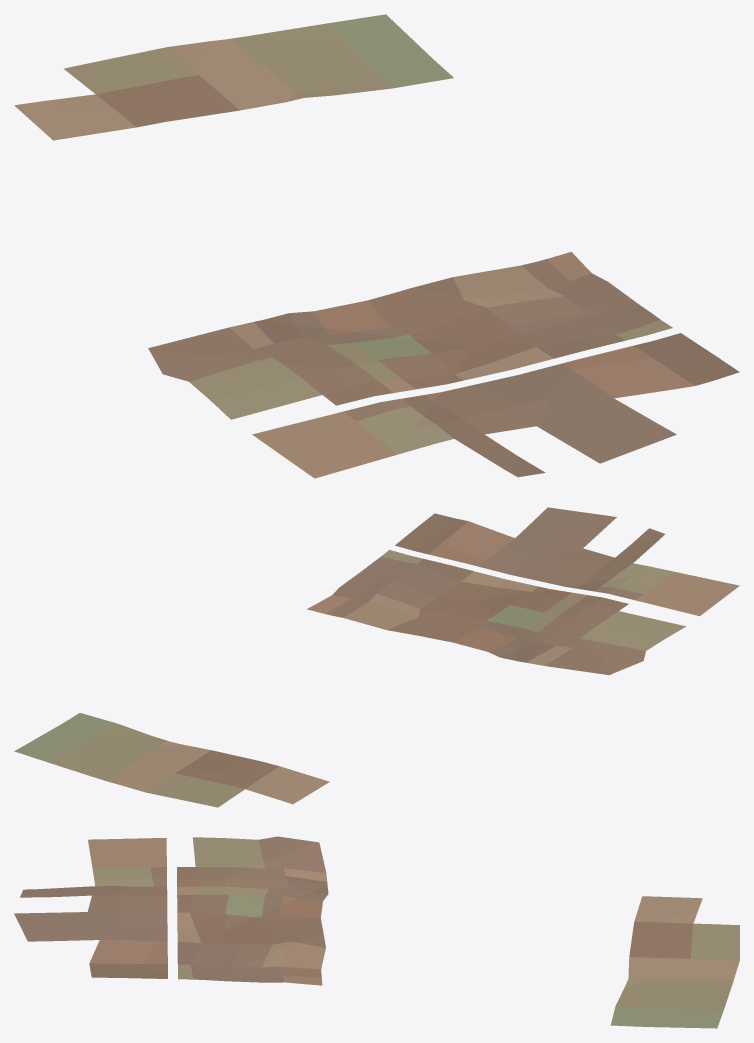
Rendered from farm_17_17_soil.glb.
The picture shows the model from 3 angles, top to bottom: view 1: azimuth 30°, elevation 25°; view 2: azimuth 150°, elevation 25°; view 3: azimuth 270°, elevation 25°; orthographic projection. The views are drawn at different scales.
Parts seen in each view (by area): view 1: geometry_0; view 2: geometry_0; view 3: geometry_0.
Boxes of the visible parts, <box> form: geometry_0: <box>14,14,739,478</box>; geometry_0: <box>14,507,739,807</box>; geometry_0: <box>14,836,739,1028</box>.
Bounding box in the file's own units: 325 × 12.94 × 556.
